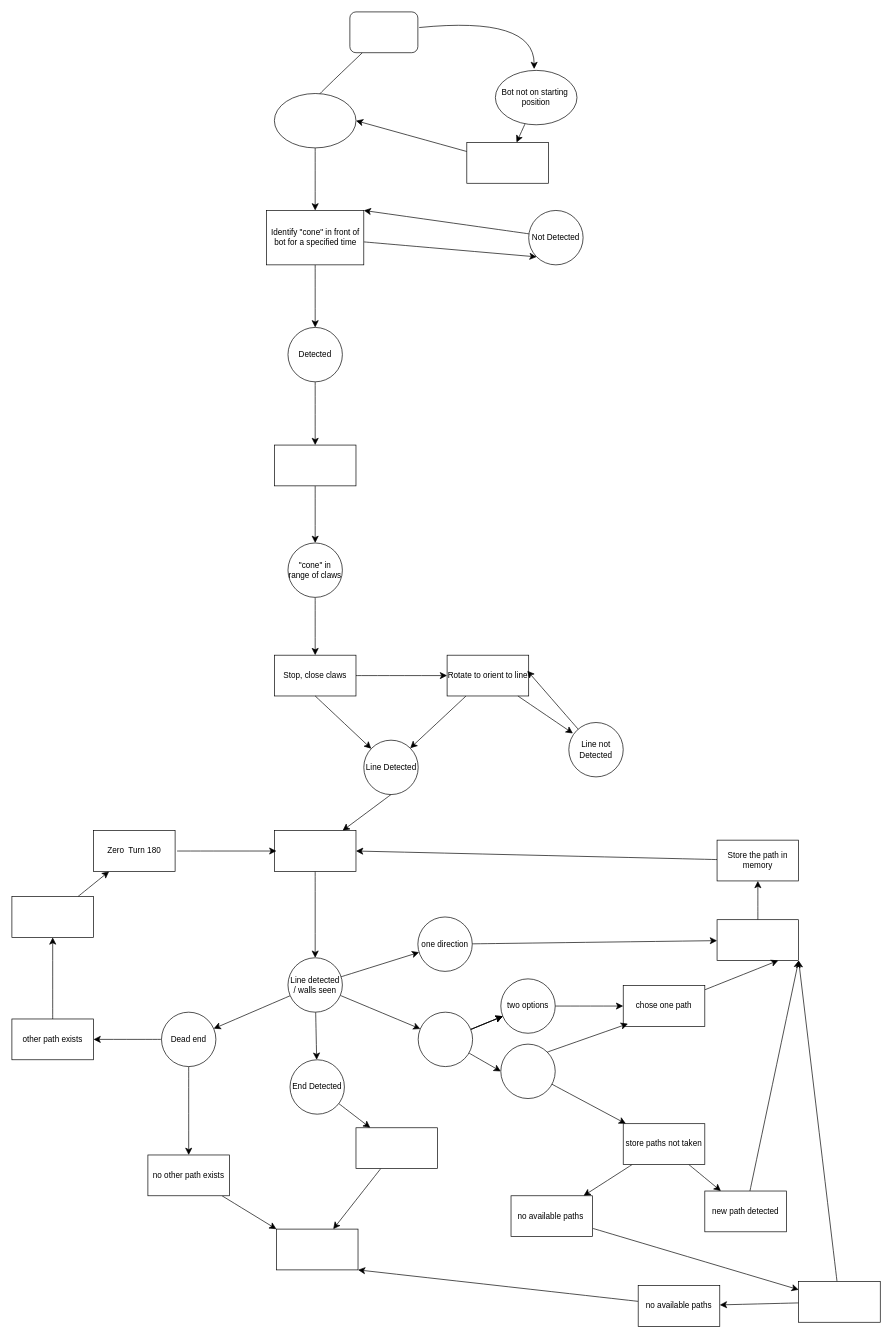
Some shapes in this 892 by 1338 pixel diagram are drawn without their labels. Here are the shapes that lost their labels. From the top down, the centre of each, then its label:
point 383,32: RelayBot Line Maze
point 315,120: Bot on starting position
point 507,162: Wait
point 315,465: Move forward
point 315,850: Move forward along line
point 52,916: store path in memory
point 757,940: Turn toward the path
point 445,1039: multiple directions
point 527,1071: three options
point 396,1148: Move to end, release cone
point 317,1249: End search
point 839,1301: paths stored in memory exist
